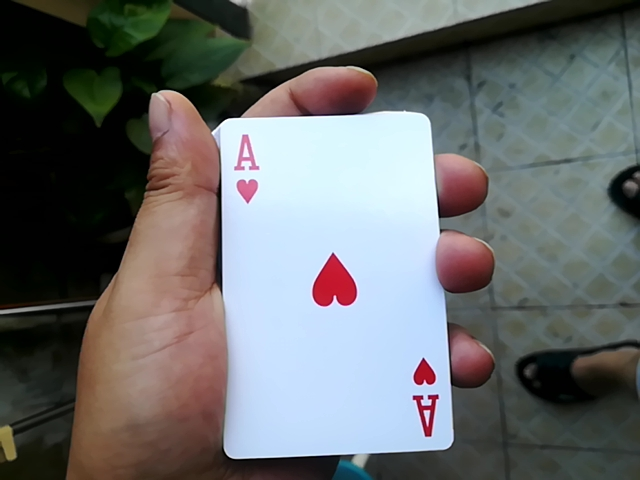hx a: (210, 101, 446, 463)
